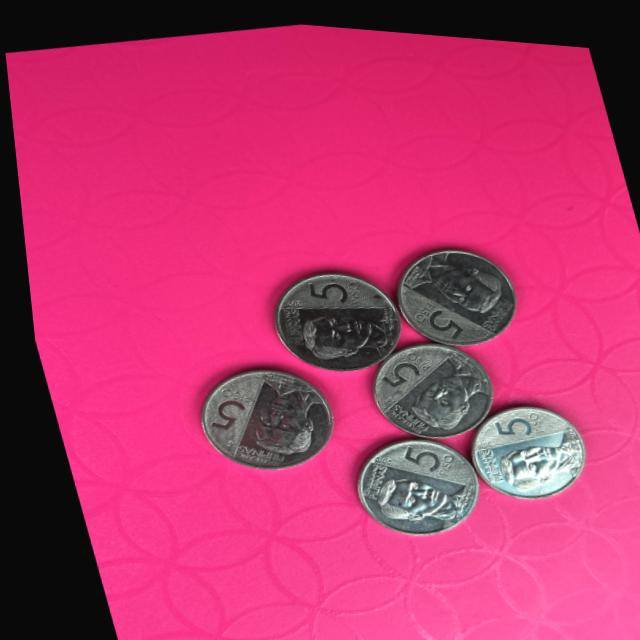5_New_Front: (380, 426, 455, 481), (473, 393, 555, 442), (288, 261, 367, 310), (188, 379, 255, 436), (395, 284, 460, 337), (366, 338, 432, 386)
